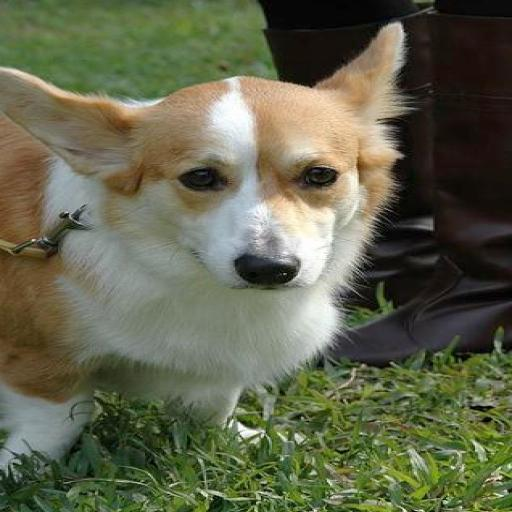dog_face: (0, 34, 427, 287)
